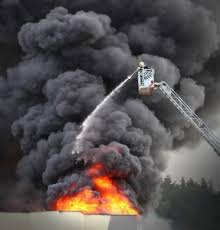smoke: (1, 1, 218, 146)
